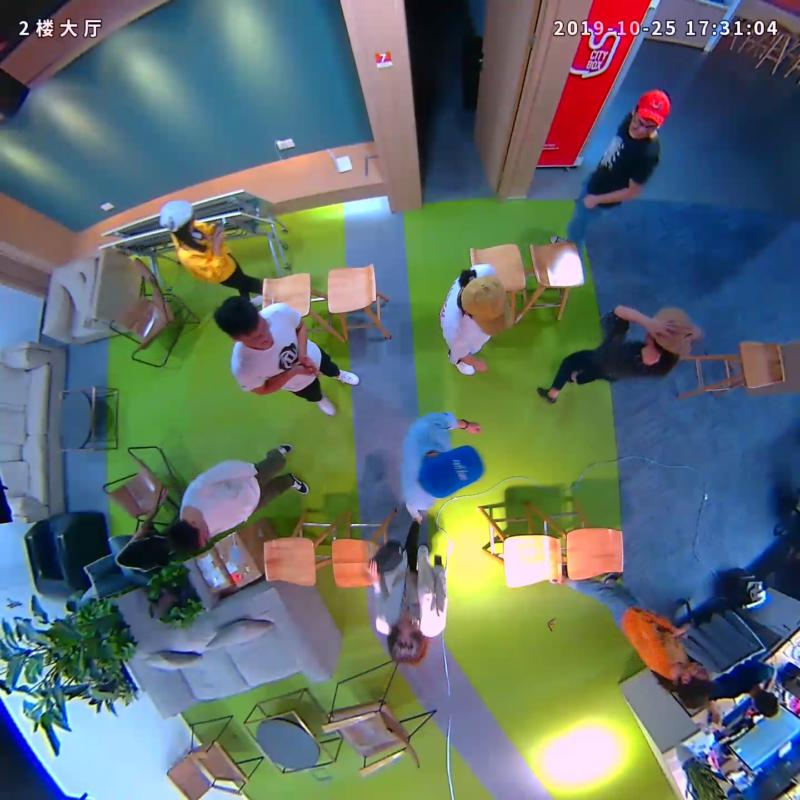head: (418, 444, 485, 499), (458, 276, 515, 337), (213, 295, 271, 347), (646, 306, 693, 356), (628, 87, 672, 139), (387, 612, 427, 664), (676, 659, 711, 710), (165, 517, 211, 555), (159, 199, 197, 236)
